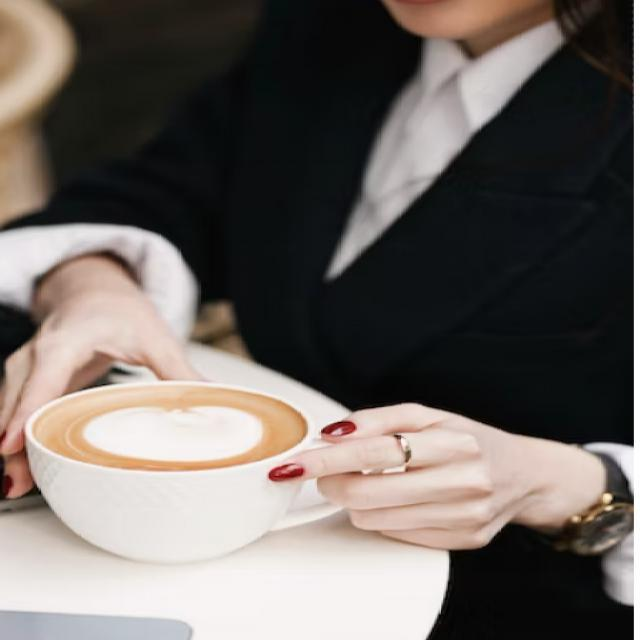Watch: (540, 449, 639, 564)
